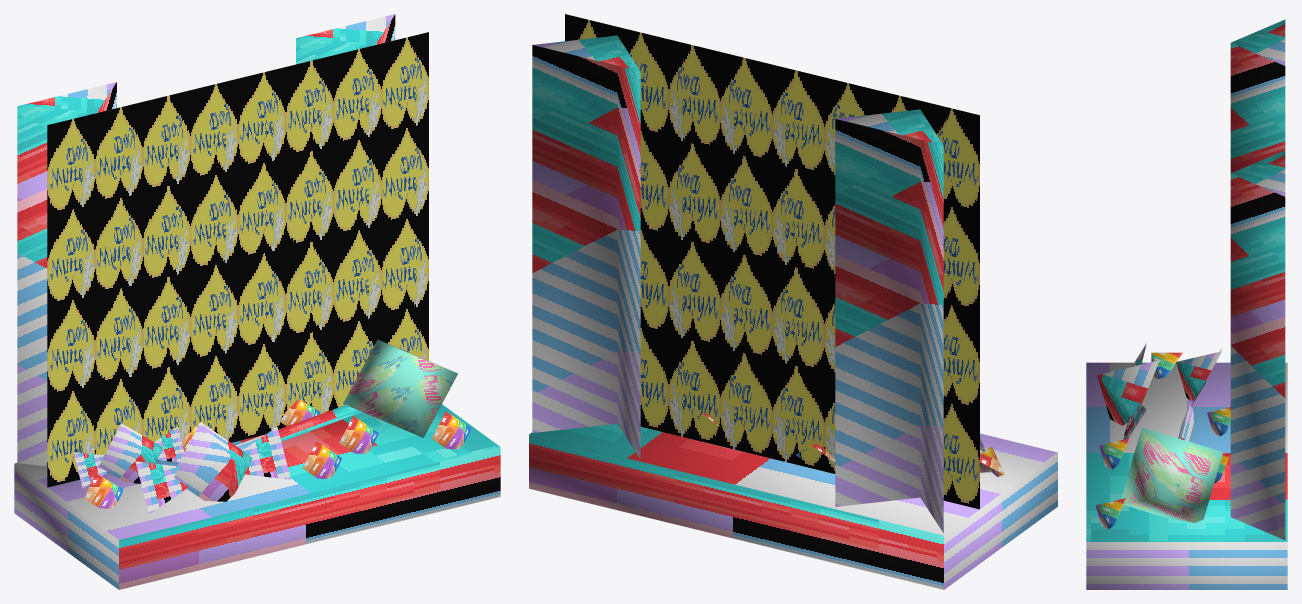
3 renders of one model, left to right at view 1: azimuth 30°, elevation 25°; view 2: azimuth 150°, elevation 25°; view 3: azimuth 270°, elevation 25°, orthographic. The views are drawn at different scales.
Parts seen in each view (by area): view 1: 3769kg_sh0_16; view 2: 3769kg_sh0_16; view 3: 3769kg_sh0_16.
Boxes of the visible parts, x1=… form: 3769kg_sh0_16: x1=14, y1=14, x2=500, y2=589; 3769kg_sh0_16: x1=529, y1=14, x2=1057, y2=589; 3769kg_sh0_16: x1=1086, y1=19, x2=1287, y2=589.
Bounding box in the file's own units: 1.62 × 1.67 × 0.7668.
Materials: 4 (4 with a texture image).
